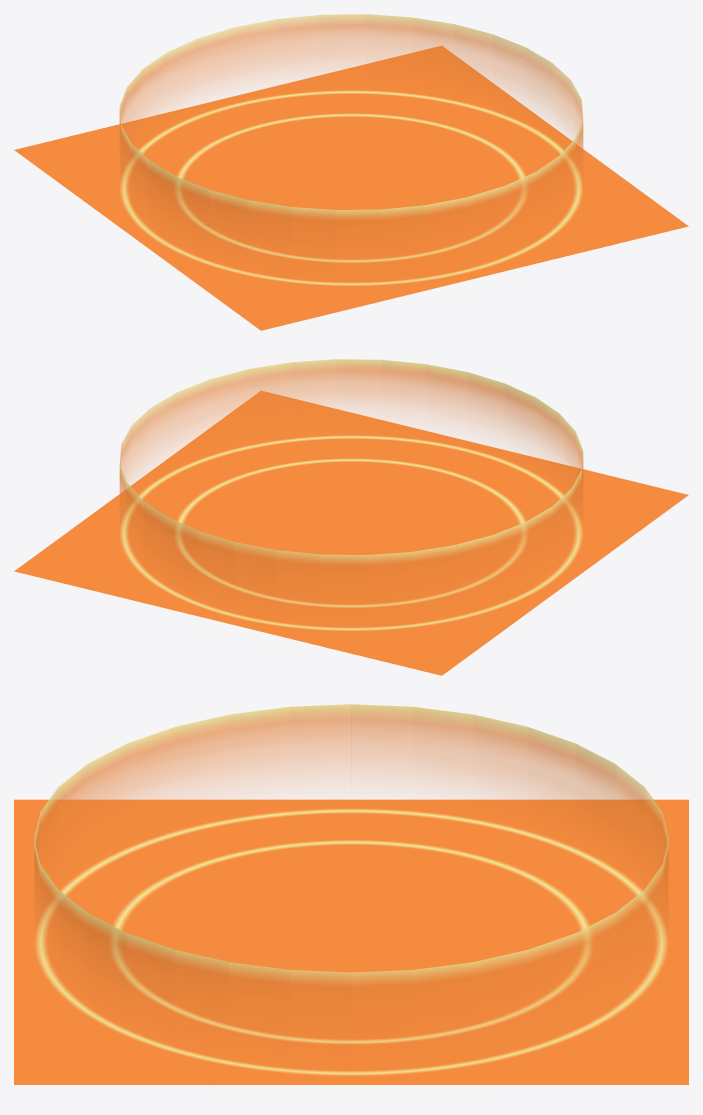
Rendered from fx_pulse_t2.glb.
3 renders of one model, top to bottom at view 1: azimuth 30°, elevation 25°; view 2: azimuth 150°, elevation 25°; view 3: azimuth 270°, elevation 25°, orthographic. The views are drawn at different scales.
Parts seen in each view (by area): view 1: fx_shock, fx_wall; view 2: fx_shock, fx_wall; view 3: fx_shock, fx_wall.
Boxes of the visible parts, x1,y1,x2,y2 form: fx_shock: (14,45,688,330); fx_wall: (119,14,583,266); fx_shock: (14,390,688,675); fx_wall: (119,359,583,613); fx_shock: (14,799,688,1084); fx_wall: (34,704,668,1056).
Bounding box in the file's own units: 1 × 0.21 × 1.
Materials: 2 (2 with a texture image).
